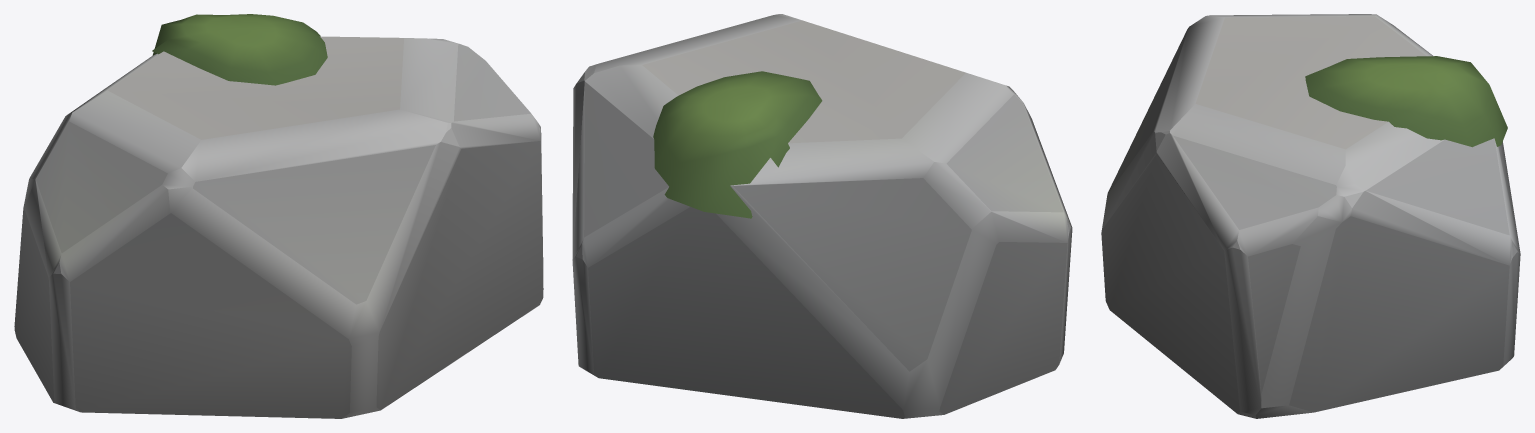
The model's file is seat_stone.glb.
3 views of the same model, side by side, from view 1: azimuth 30°, elevation 25°; view 2: azimuth 150°, elevation 25°; view 3: azimuth 270°, elevation 25° (orthographic). The views are drawn at different scales.
Visible parts, largest first — view 1: seat_stone_LOD0; view 2: seat_stone_LOD0; view 3: seat_stone_LOD0.
Part boxes in pixels (box(x1,y1,x2,y2)): seat_stone_LOD0: box(14, 14, 543, 418); seat_stone_LOD0: box(572, 14, 1072, 418); seat_stone_LOD0: box(1101, 14, 1520, 418).
Size of what is drawn, in the model's own units: 0.9796 by 0.4994 by 0.7742.
